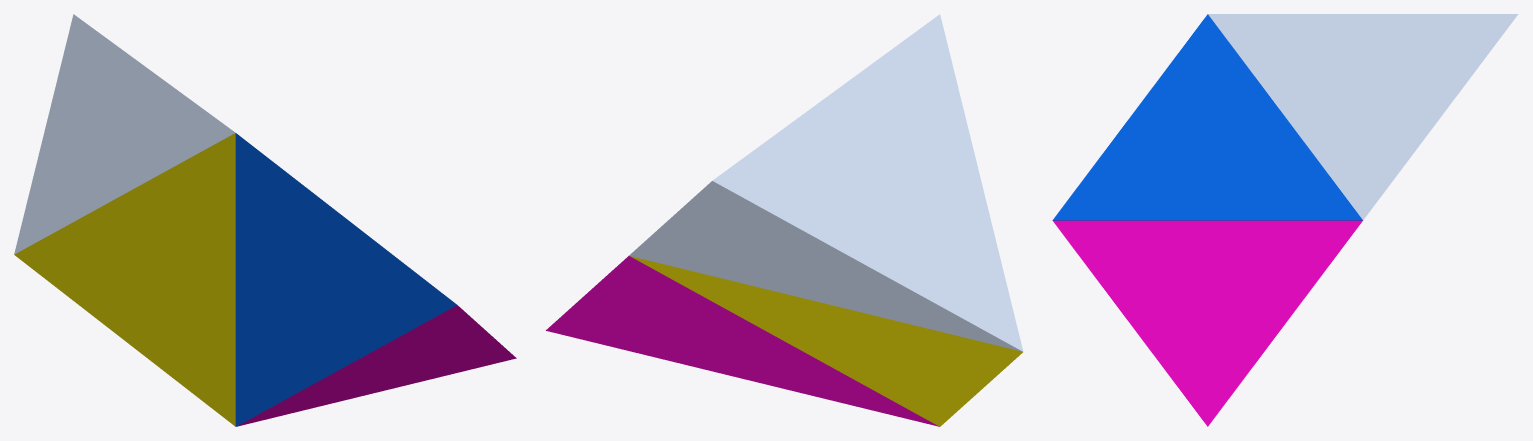
The model's file is TetragonalDisphenoidal_4_1.glb.
3 views of the same model, side by side, from view 1: azimuth 30°, elevation 25°; view 2: azimuth 150°, elevation 25°; view 3: azimuth 270°, elevation 25° (orthographic). The views are drawn at different scales.
Bounding box in the file's own units: 6 × 4 × 6.
